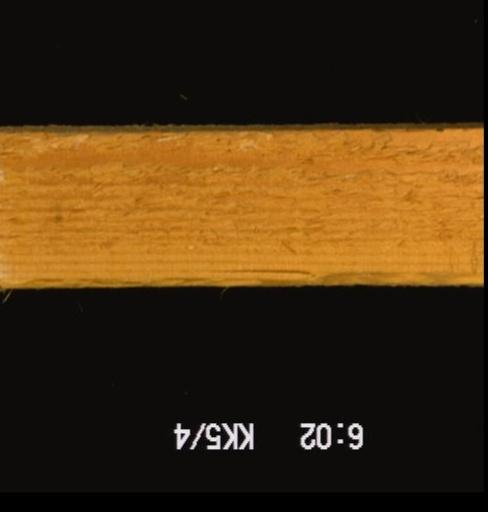wave: (193, 265, 481, 285)
